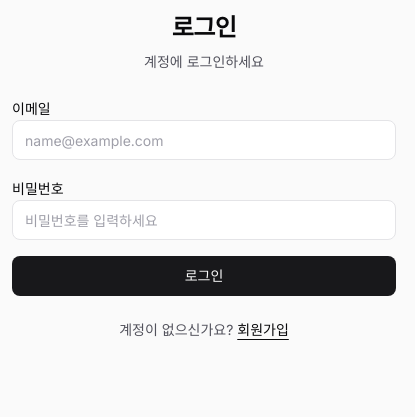
it: Login › 로그인 실패 시 에러 Alert가 표시된다
The width and height of the screenshot is (415, 417).
In the field labelled "이메일": (204, 140) [12,120,396,160], type "test@example.com"
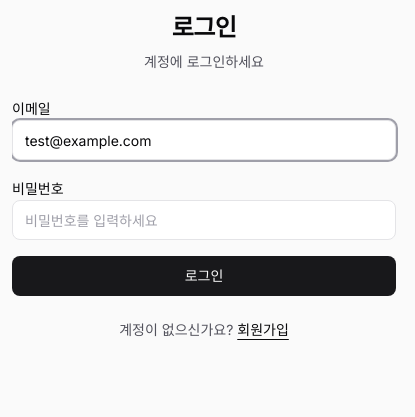
In the password field labelled "비밀번호": (204, 220) [12,200,396,240], type "Password1!"
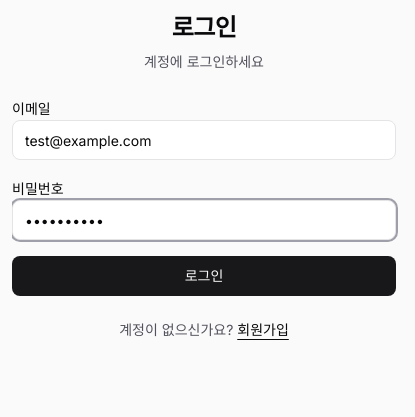
Click the button "로그인": (204, 276) [12,256,396,296]
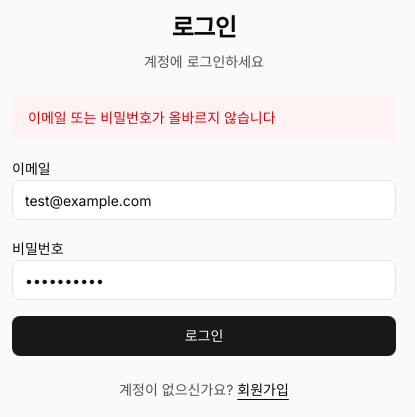
Expected: the message reads "이메일 또는 비밀번호가 올바르지 않습니다", [28,109,276,126]
